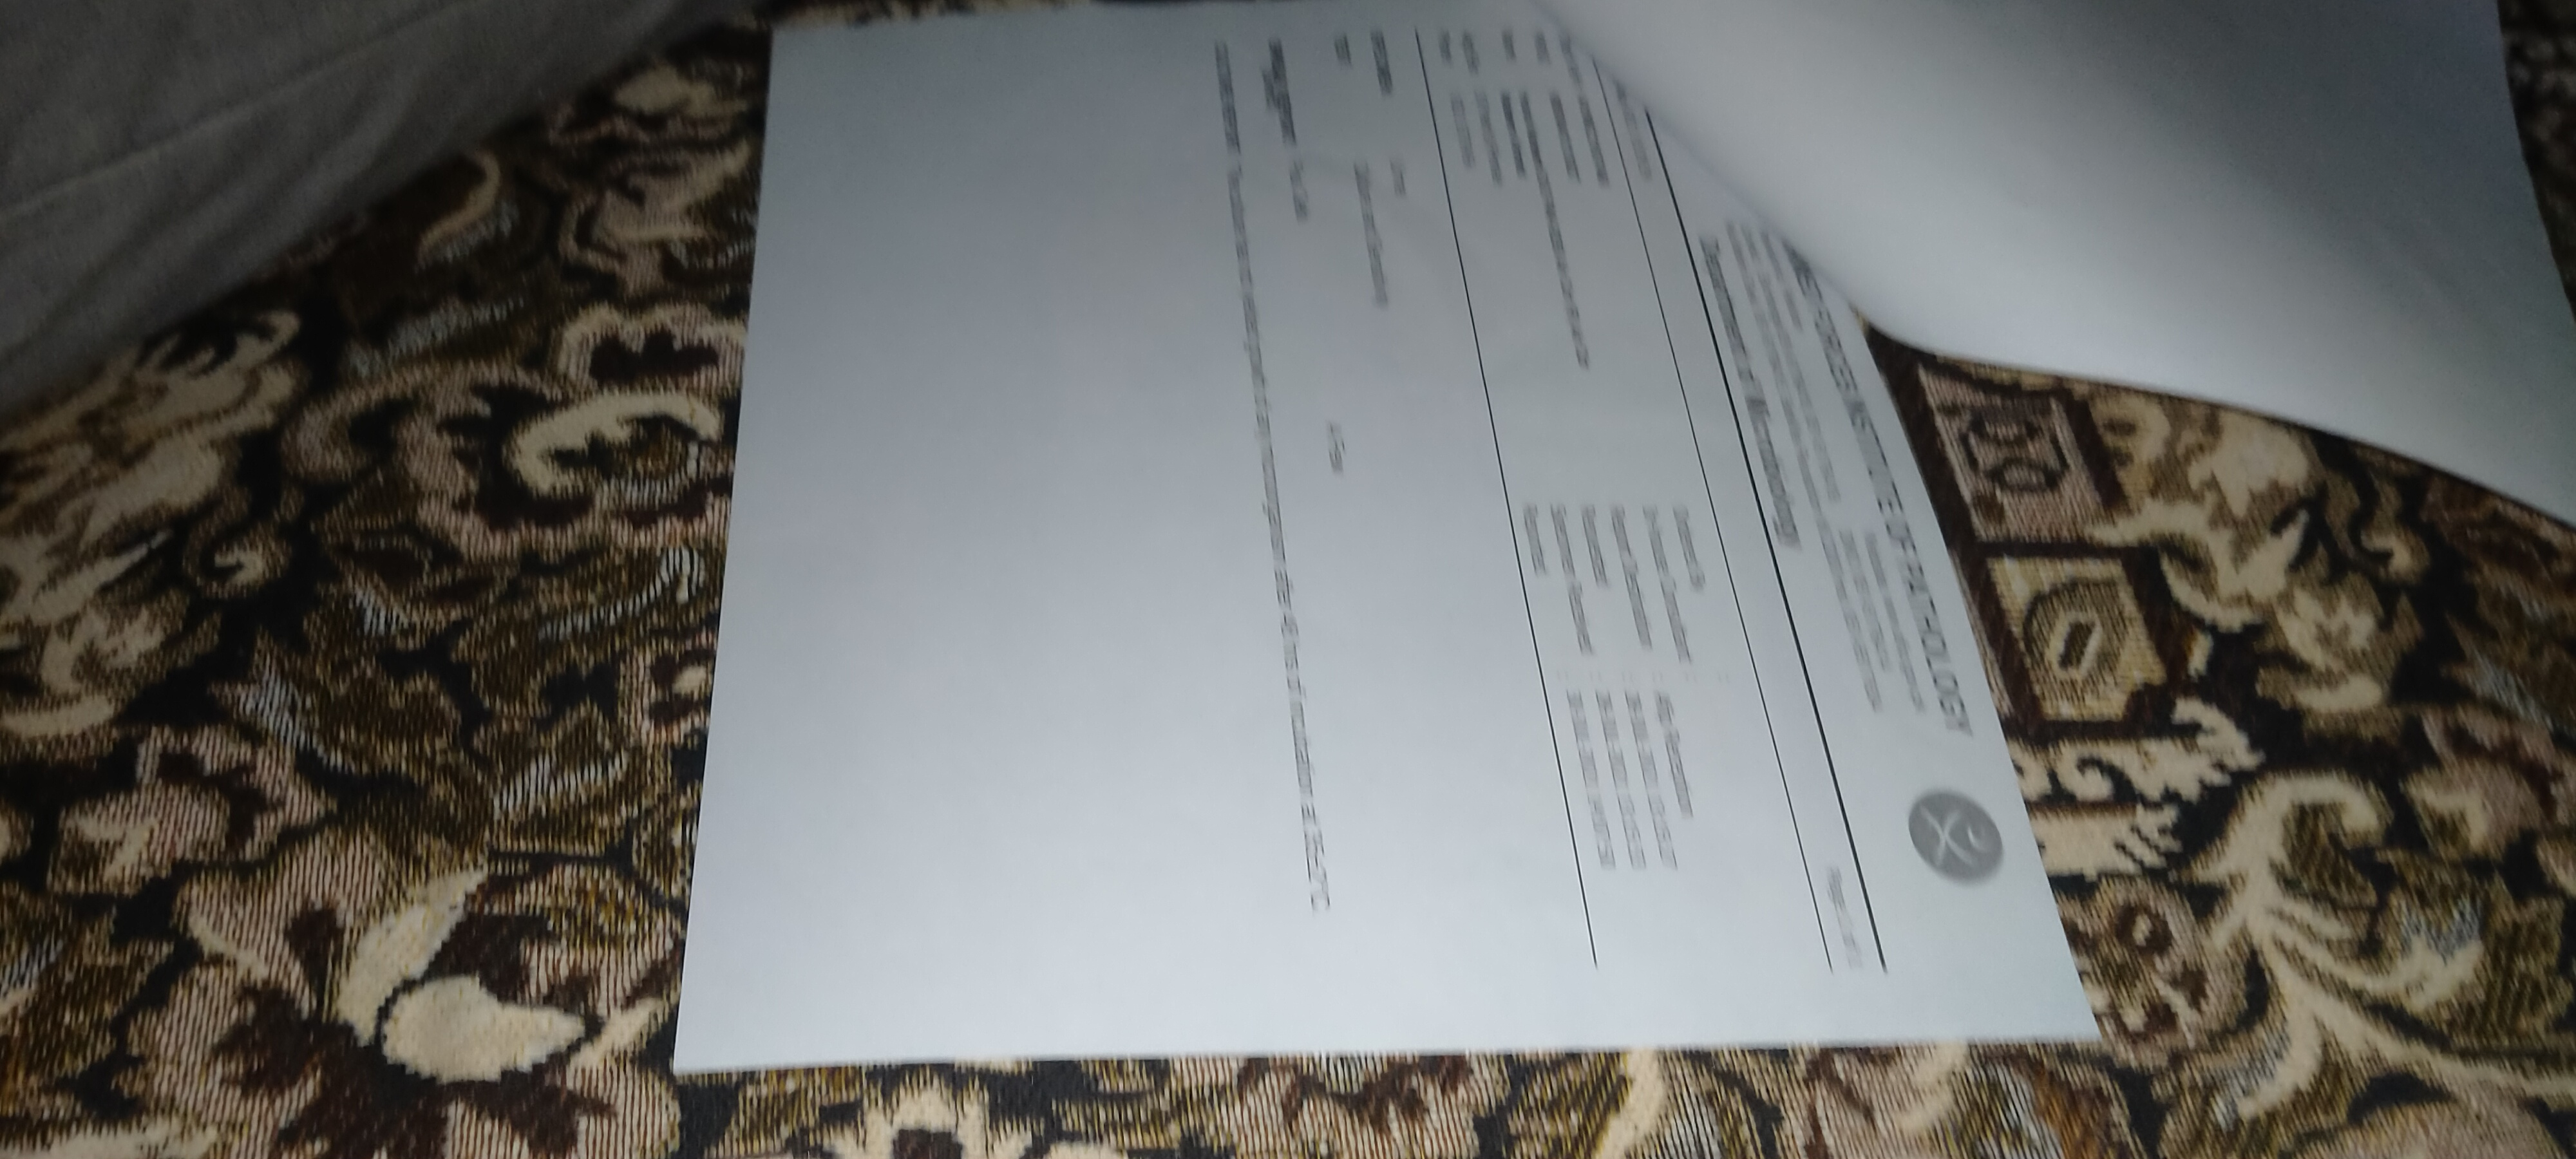report: (1183, 13, 1582, 1042)
